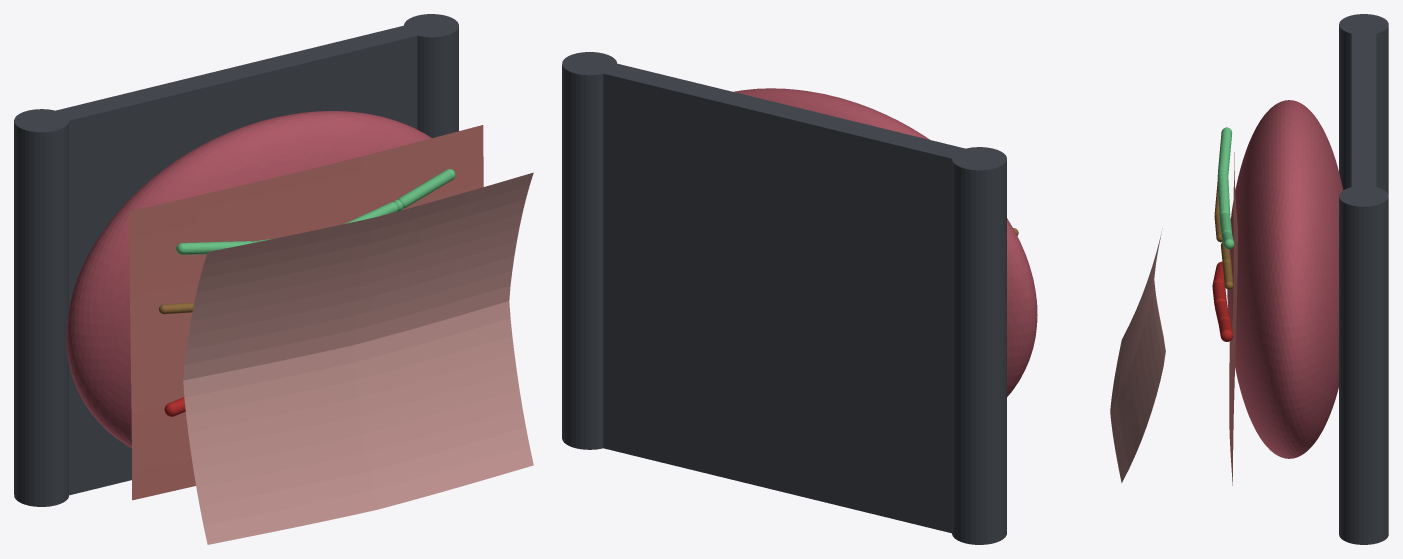
File: dranmar_safeplane_complication_nerve.glb
The picture shows the model from 3 angles, left to right: view 1: azimuth 30°, elevation 25°; view 2: azimuth 150°, elevation 25°; view 3: azimuth 270°, elevation 25°; orthographic projection. The views are drawn at different scales.
Parts seen in each view (by area): view 1: SuperficialFlap, Fixture, TargetBed, ProtectedOrgan, DuctRight, DuctLeft; view 2: Fixture, ProtectedOrgan; view 3: ProtectedOrgan, Fixture, SuperficialFlap, TargetBed, DuctLeft, VesselRight, VesselLeft, DuctRight, NerveRight.
Boxes of the visible parts, bbox=[...] form: SuperficialFlap: bbox=[183, 172, 533, 544]; Fixture: bbox=[14, 14, 458, 506]; TargetBed: bbox=[129, 125, 483, 500]; ProtectedOrgan: bbox=[66, 111, 431, 448]; DuctRight: bbox=[344, 169, 455, 223]; DuctLeft: bbox=[176, 239, 271, 254]; Fixture: bbox=[562, 52, 1006, 544]; ProtectedOrgan: bbox=[733, 88, 1037, 396]; ProtectedOrgan: bbox=[1227, 100, 1342, 458]; Fixture: bbox=[1339, 14, 1388, 544]; SuperficialFlap: bbox=[1110, 229, 1165, 482]; TargetBed: bbox=[1229, 152, 1237, 485]; DuctLeft: bbox=[1217, 127, 1232, 216]; VesselRight: bbox=[1215, 301, 1233, 341]; VesselLeft: bbox=[1212, 261, 1226, 306]; DuctRight: bbox=[1219, 213, 1234, 249]; NerveRight: bbox=[1220, 242, 1233, 289].
Bounding box in the file's own units: 0.22 × 0.18 × 0.1344.
